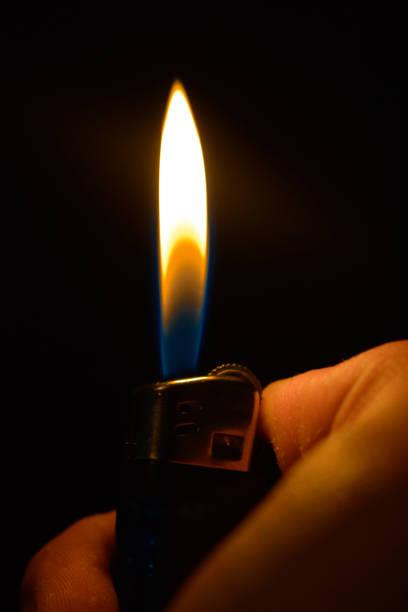Fire: (151, 74, 213, 377)
